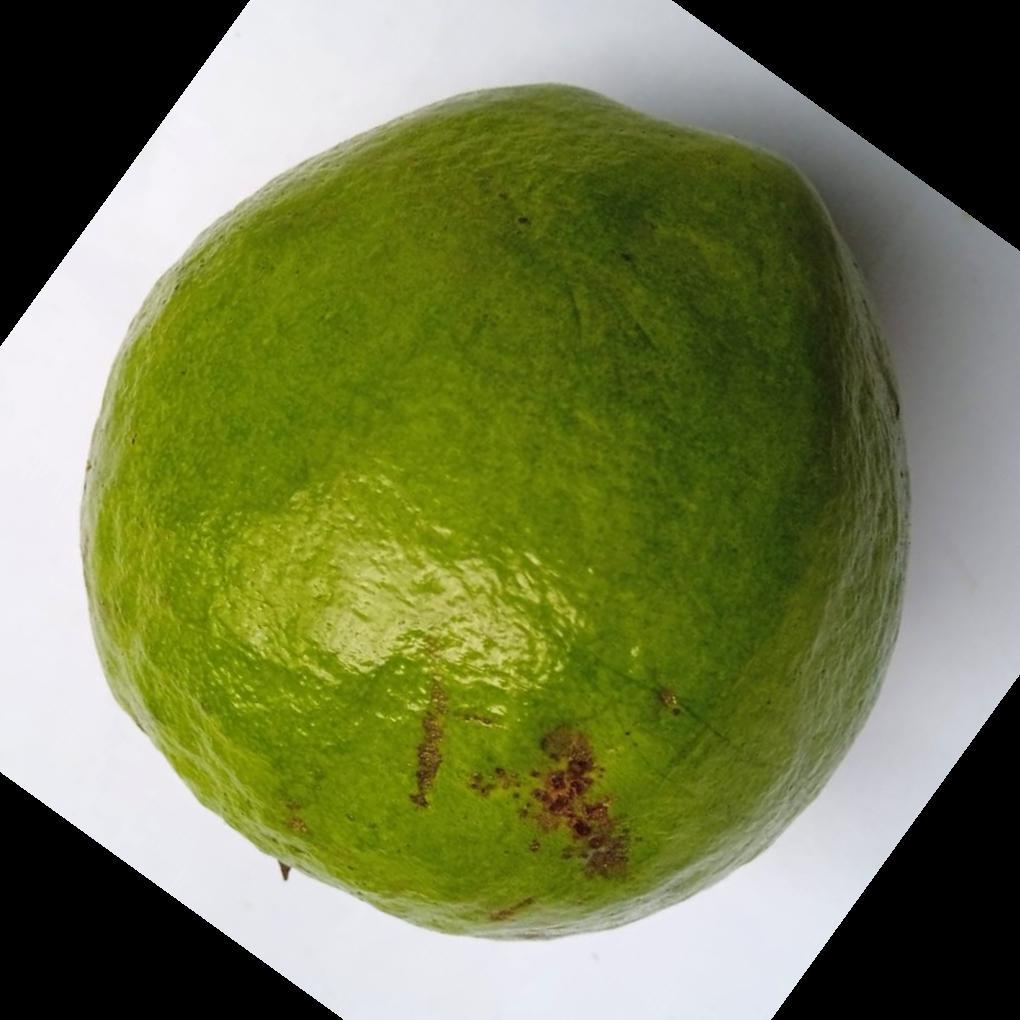FreshGuava: (76, 84, 913, 947)
